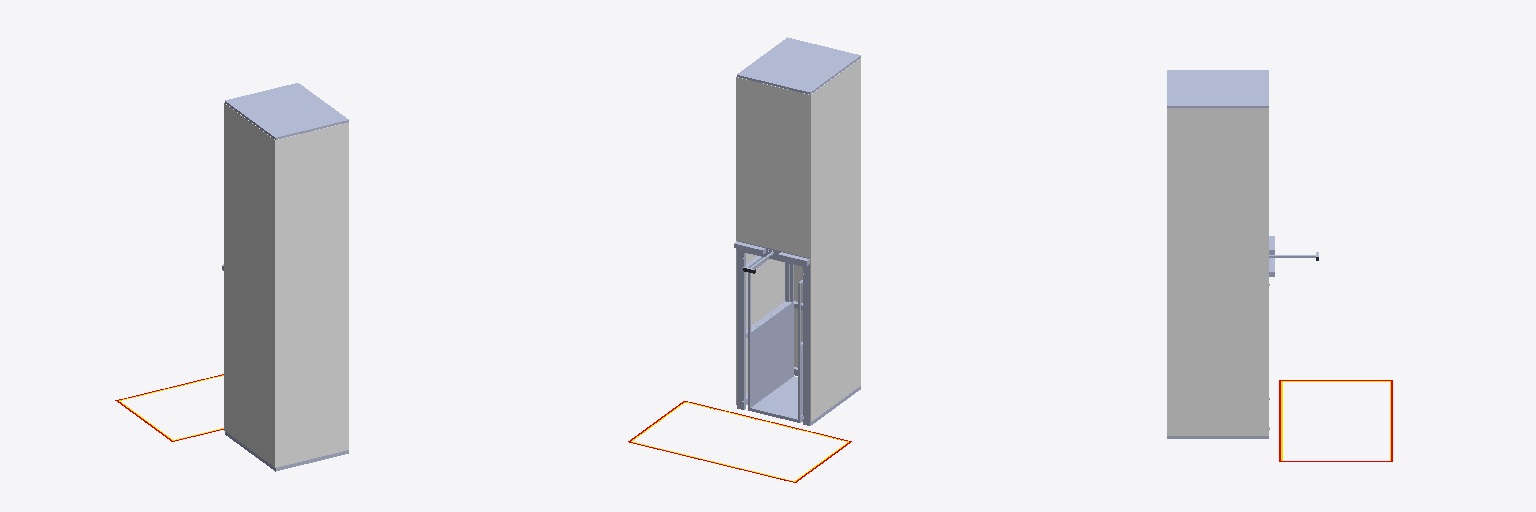
The model's file is assmcNameAndGrouped.obj.
3 renders of one model, left to right at view 1: azimuth 30°, elevation 25°; view 2: azimuth 150°, elevation 25°; view 3: azimuth 270°, elevation 25°, orthographic.
Visible parts, largest first — view 1: SidePanel, Frame; view 2: SidePanel, Frame, LiftSystem; view 3: SidePanel, Frame, AreaSensorRed.
Part boxes in pixels (left/top/right/bottom): SidePanel: left=224, top=103, right=348, bottom=467; Frame: left=222, top=83, right=348, bottom=471; SidePanel: left=736, top=58, right=860, bottom=422; Frame: left=734, top=37, right=860, bottom=425; LiftSystem: left=748, top=258, right=802, bottom=422; SidePanel: left=1167, top=108, right=1268, bottom=435; Frame: left=1167, top=70, right=1274, bottom=438; AreaSensorRed: left=1279, top=380, right=1392, bottom=461.
Size of the model in its own units: 2.9 by 5.55 by 3.38.